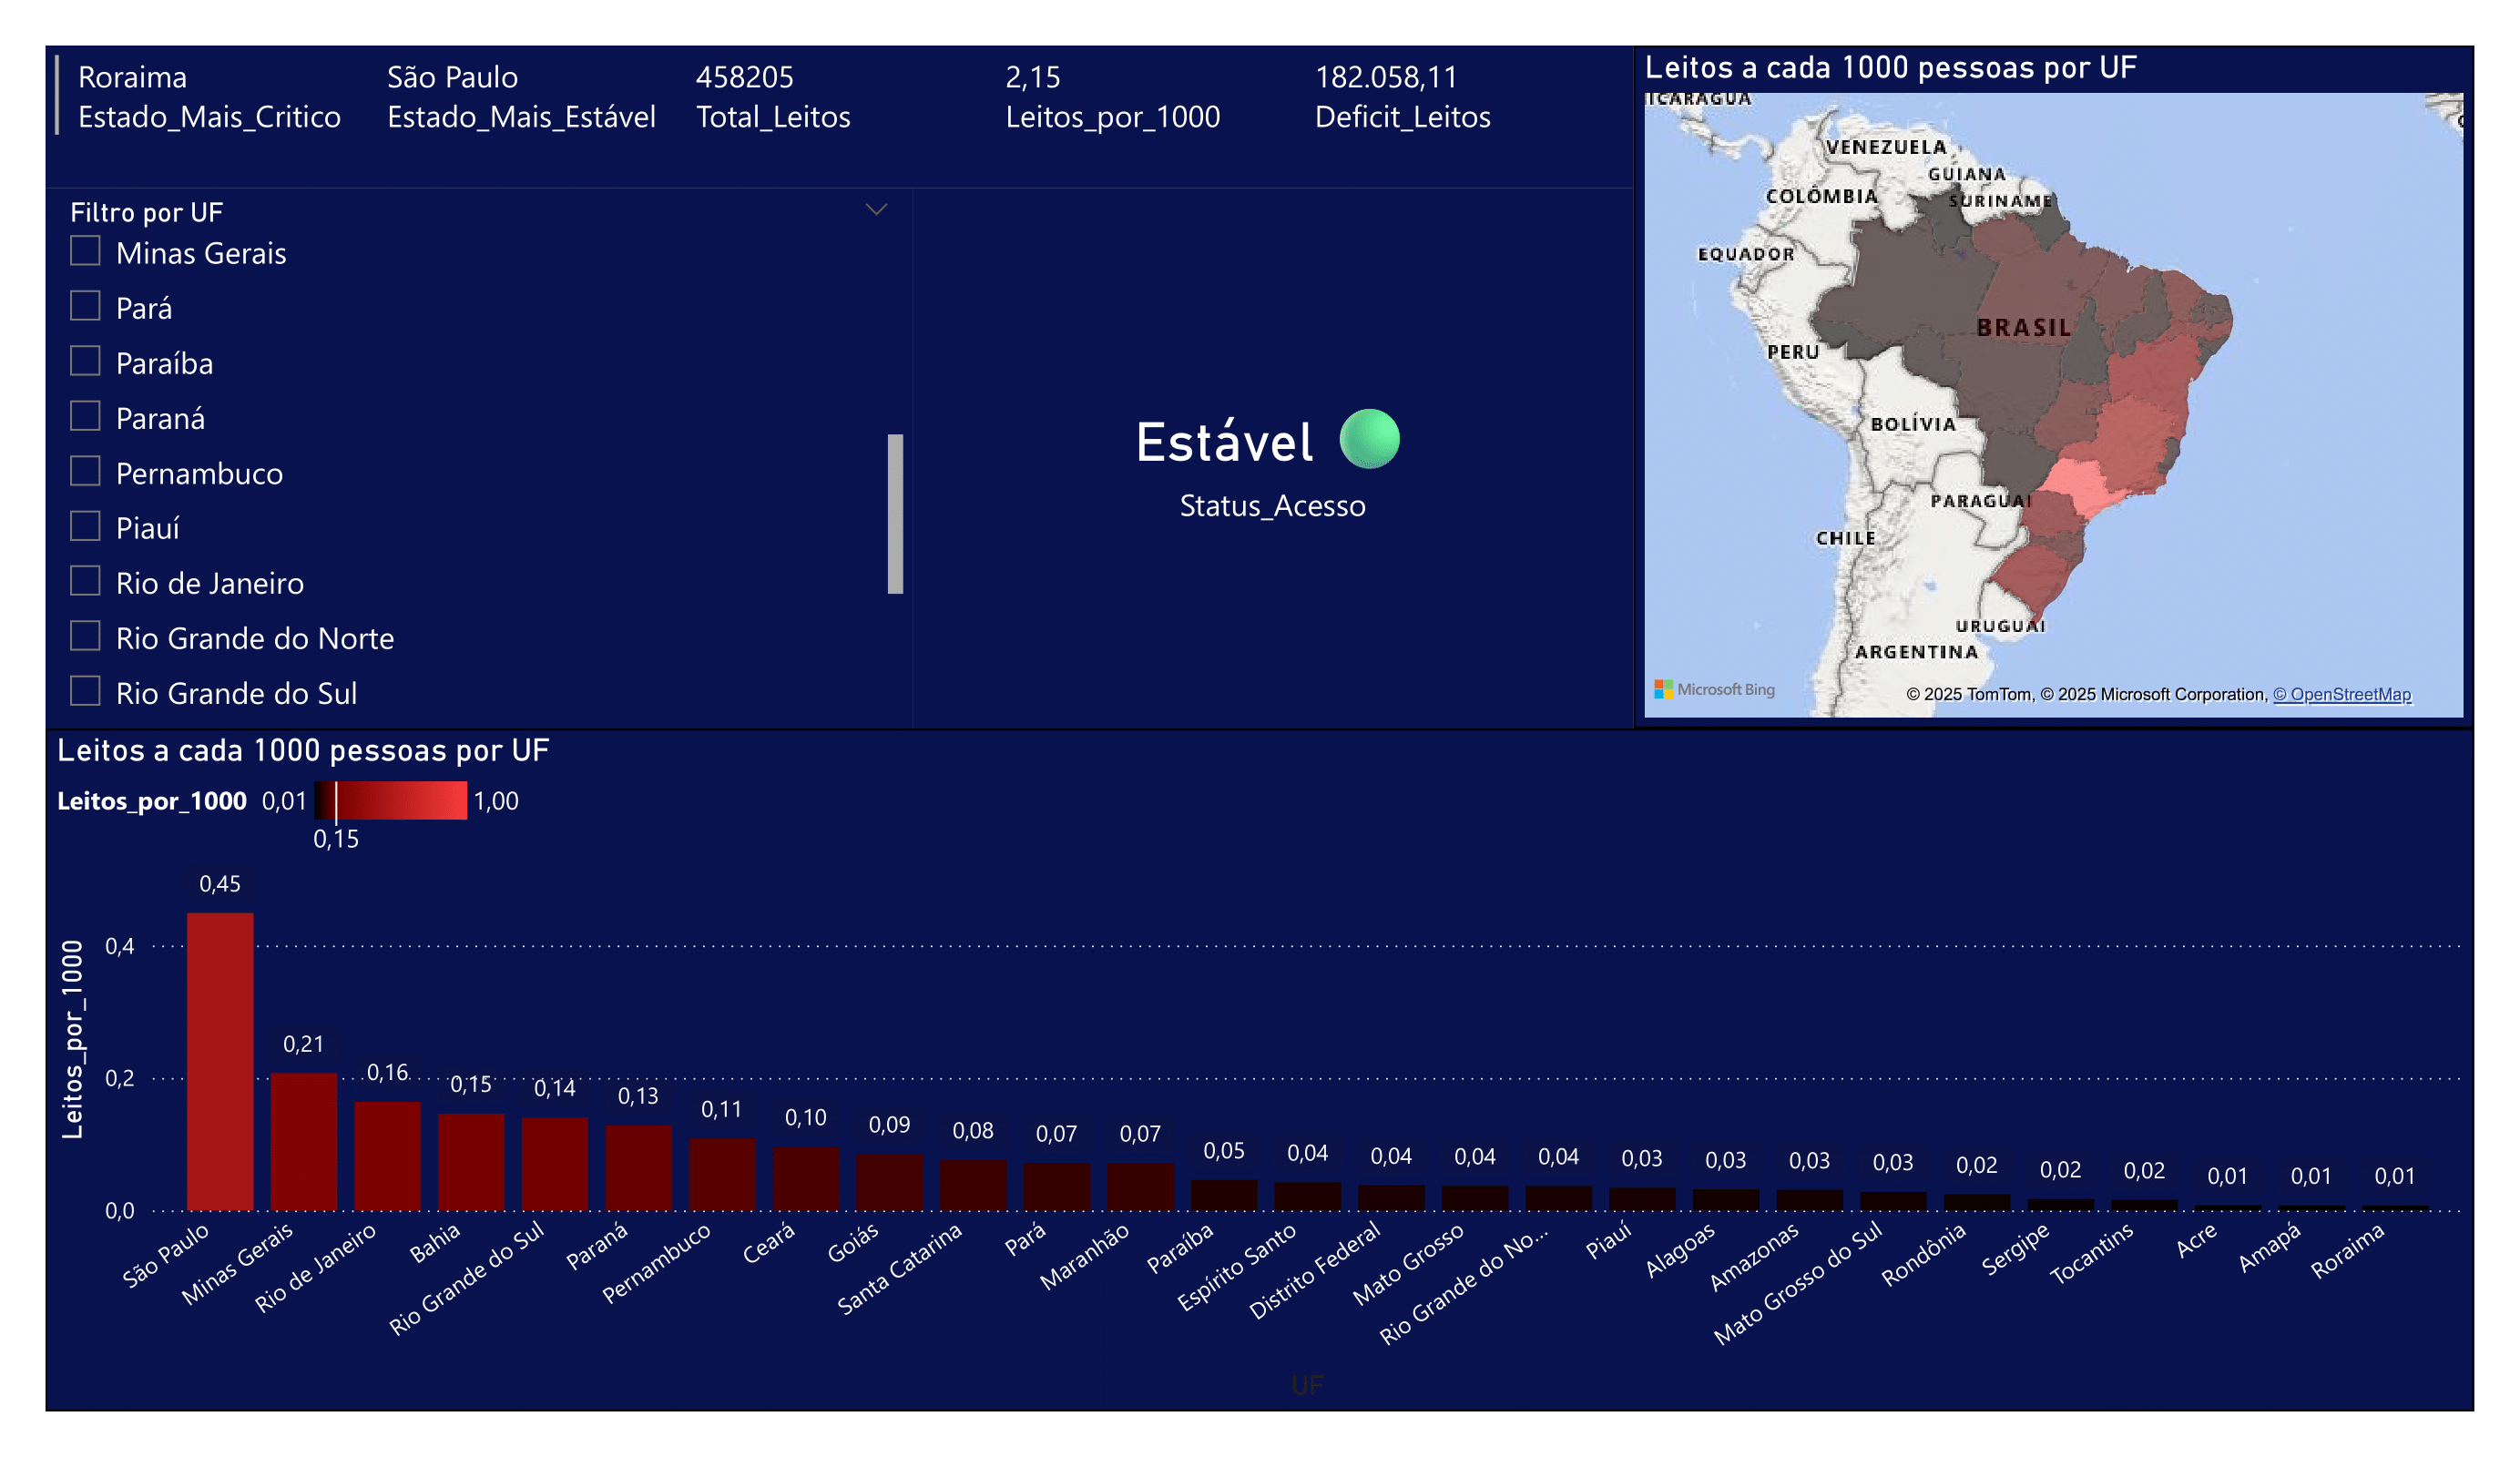

What the dashboard file says about the page in this screenshot:
{"tool":"powerbi","page":{"name":"Página 1","canvas":[1280,720],"ordinal":0},"visuals":[{"type":"filledMap","title":"Leitos a cada 1000 pessoas por UF","fields":{"Category":["leitos_internacao_sus.UF"]},"box":[731.7,0,548.3,360],"z":0},{"type":"multiRowCard","fields":{"Values":["leitos_internacao_sus.Estado_Mais_Critico","leitos_internacao_sus.Estado_Mais_Estável","leitos_internacao_sus.Total_Leitos","leitos_internacao_sus.Leitos_por_1000"]},"box":[0,0,731.7,75],"z":4},{"type":"clusteredColumnChart","title":"Leitos a cada 1000 pessoas por UF","fields":{"Category":["leitos_internacao_sus.UF"],"Y":["leitos_internacao_sus.Leitos_por_1000"]},"box":[0,360,1280,360],"z":6},{"type":"slicer","fields":{"Values":["leitos_internacao_sus.UF"]},"box":[0,75,366.7,285],"z":7},{"type":"card","title":"Status de acesso","fields":{"Values":["leitos_internacao_sus.Status_Acesso"]},"box":[366.7,75,365,285],"z":8}]}

Visuals, with their boxes in screenshot pixels (x1, y1, x2, y2):
"Leitos a cada 1000 pessoas por UF" filledMap: x1=1434, y1=46, x2=2474, y2=728
multiRowCard - leitos_internacao_sus.Estado_Mais_Critico x leitos_internacao_sus.Estado_Mais_Estável: x1=46, y1=46, x2=1434, y2=188
"Leitos a cada 1000 pessoas por UF" clusteredColumnChart: x1=46, y1=728, x2=2474, y2=1411
slicer - leitos_internacao_sus.UF: x1=46, y1=188, x2=741, y2=728
"Status de acesso" card: x1=741, y1=188, x2=1434, y2=728
